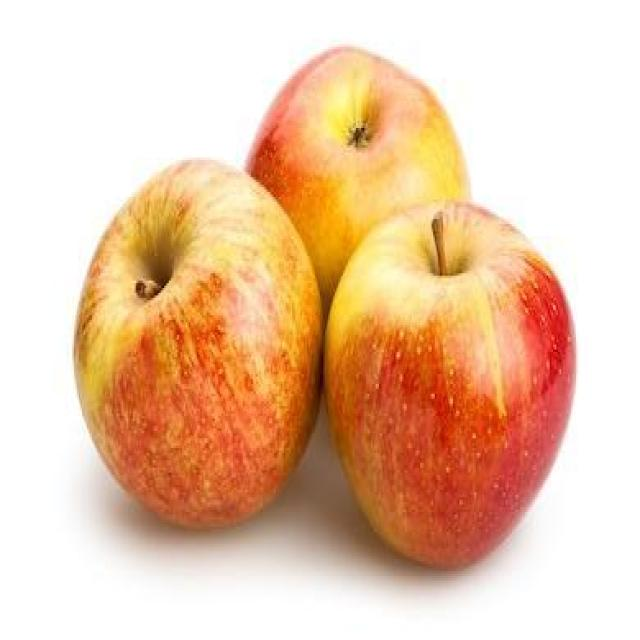apple: (71, 153, 323, 532), (324, 199, 577, 570)
